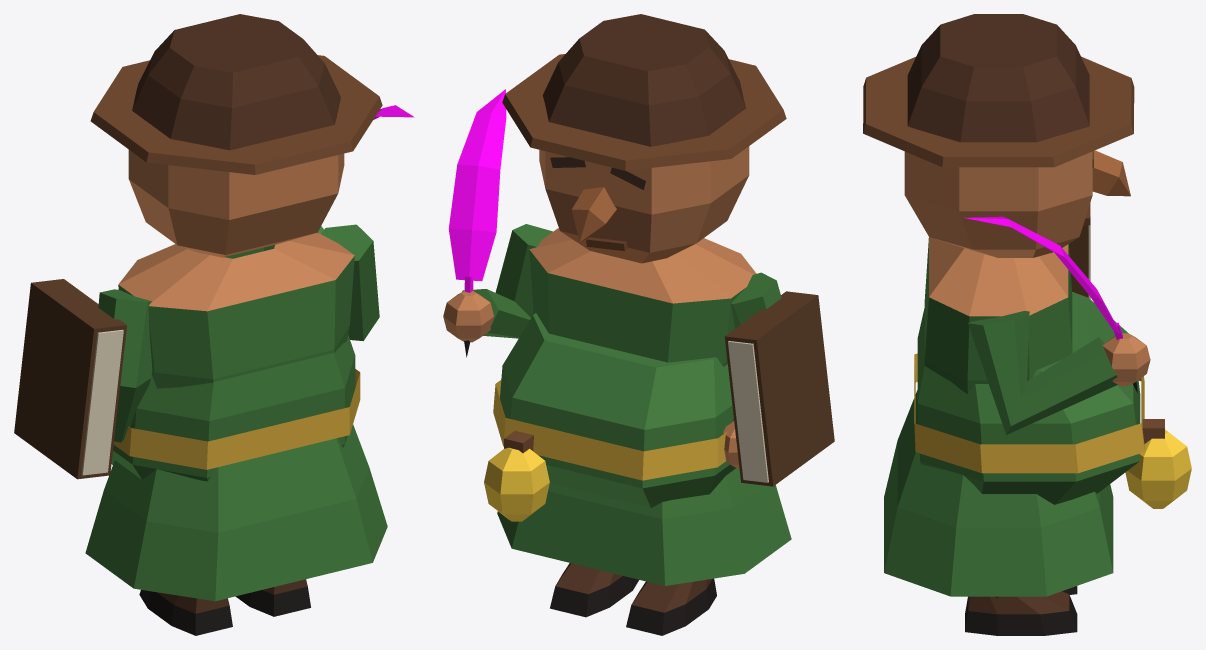
The model's file is CH_Bookmaker.fbx.
3 views of the same model, side by side, from view 1: azimuth 30°, elevation 25°; view 2: azimuth 150°, elevation 25°; view 3: azimuth 270°, elevation 25° (orthographic). The views are drawn at different scales.
Parts seen in each view (by area): view 1: Root; view 2: Root; view 3: Root.
Boxes of the visible parts, <box> form: Root: <box>14,14,414,635</box>; Root: <box>443,14,834,635</box>; Root: <box>863,14,1191,635</box>.
Size of the model in its own units: 0.8774 by 0.7318 by 1.38.
